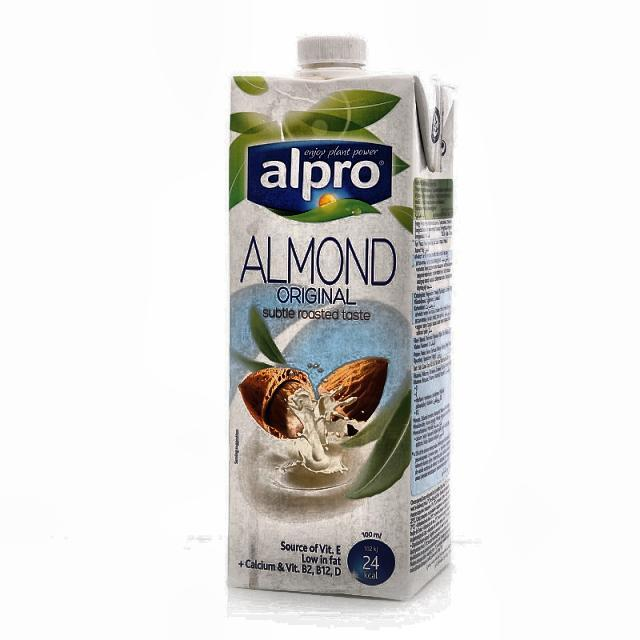cardboard: (226, 40, 454, 601)
